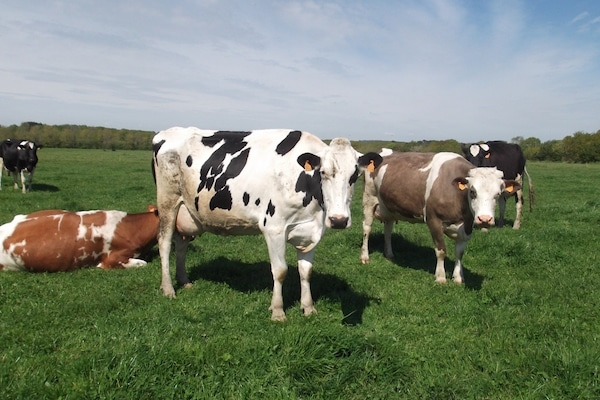cow: (6, 212, 153, 270), (295, 137, 377, 235), (461, 162, 508, 232), (453, 138, 539, 170), (4, 136, 49, 184)
